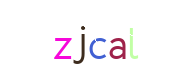A: (64, 0, 144, 80)
C: (57, 0, 137, 80)
J: (56, 0, 136, 80)
L: (72, 0, 152, 80)
Z: (22, 0, 102, 80)
